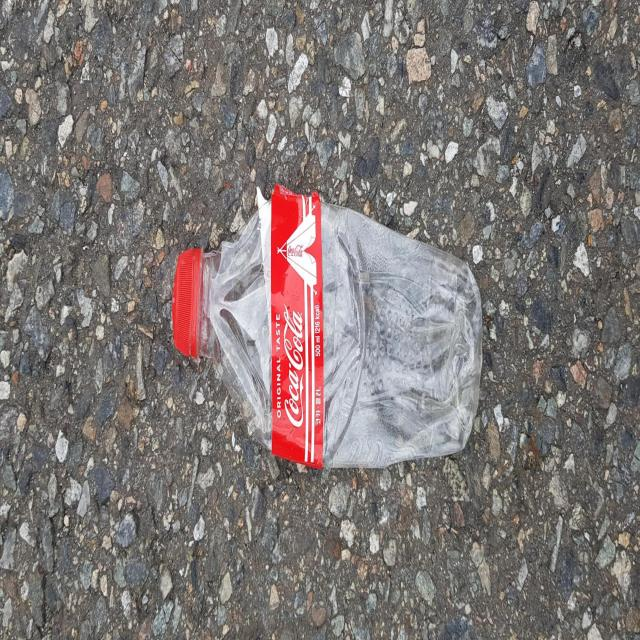plastic: (172, 184, 483, 467)
